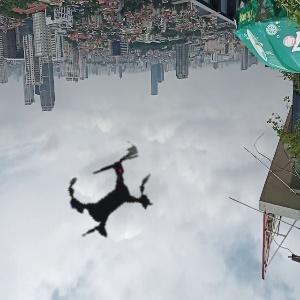drone: (33, 118, 187, 272)
